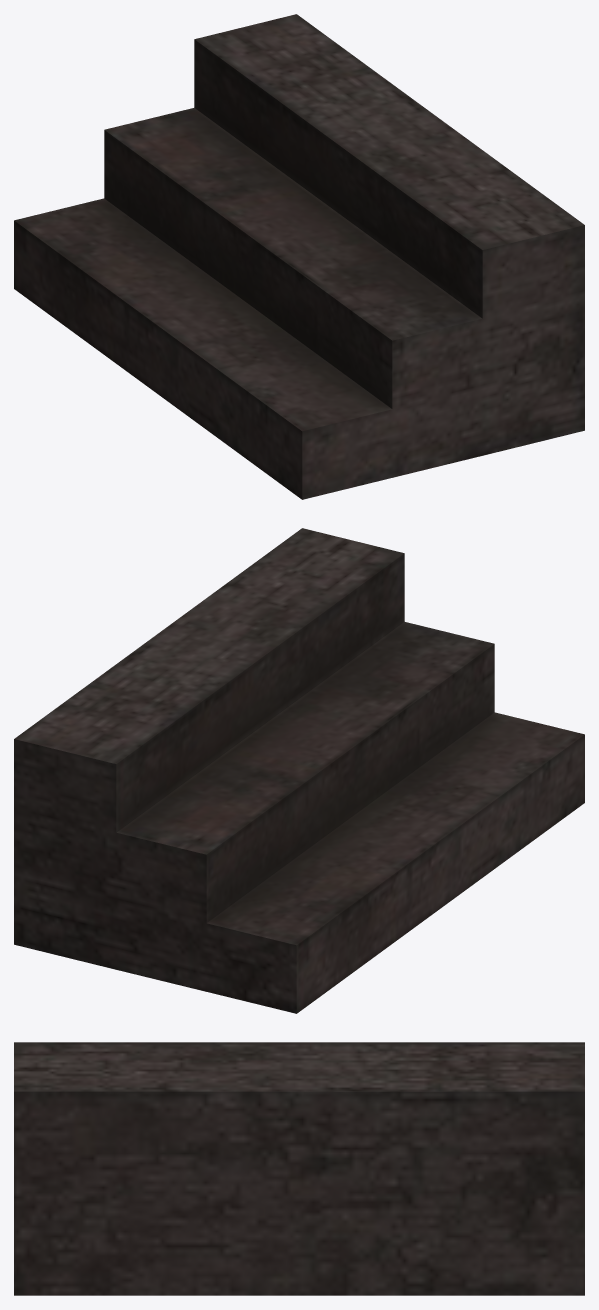
Rendered from Stairs.FBX.
The picture shows the model from 3 angles, top to bottom: view 1: azimuth 30°, elevation 25°; view 2: azimuth 150°, elevation 25°; view 3: azimuth 270°, elevation 25°; orthographic projection.
Parts seen in each view (by area): view 1: Stairs; view 2: Stairs; view 3: Stairs.
Part boxes in pixels (bbox=[...]): Stairs: bbox=[14, 14, 584, 499]; Stairs: bbox=[14, 528, 584, 1013]; Stairs: bbox=[14, 1042, 584, 1295].
Bounding box in the file's own units: 69.03 × 48.02 × 122.
